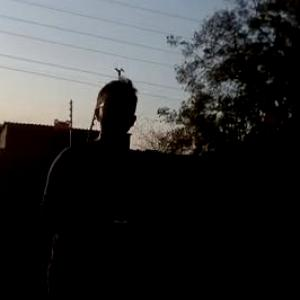follow: (33, 73, 160, 299)
